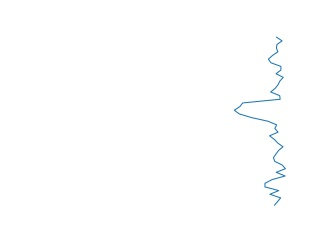interdistributaryEstuary: (229, 36, 288, 208)
